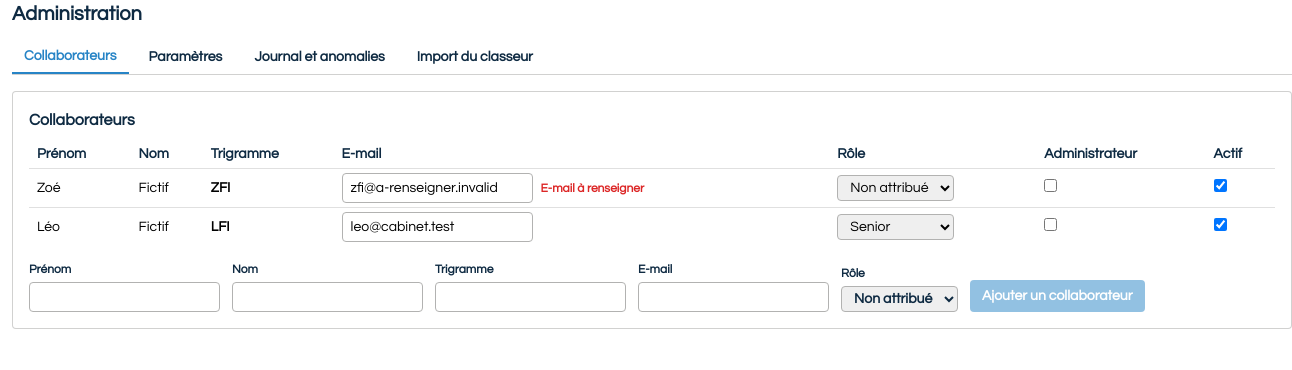
Scenario: le message du garde-fou du dernier administrateur est affiché
This screenshot has width=1292, height=370.
Click the checkbox named "Actif LFI" at (1220, 224), box [1214,218,1226,231]
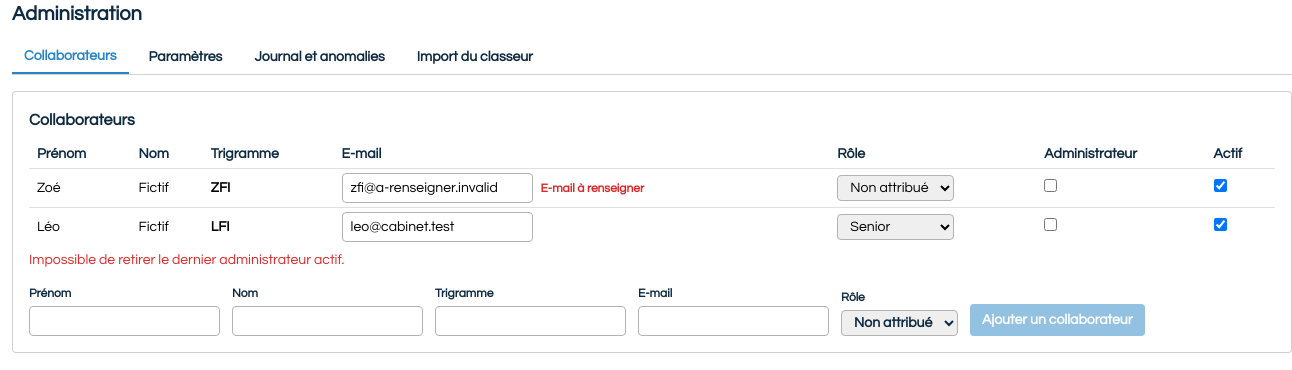
Check: the message reads "Impossible de retirer le dernier administrateur actif.", box [29,253,344,267]
